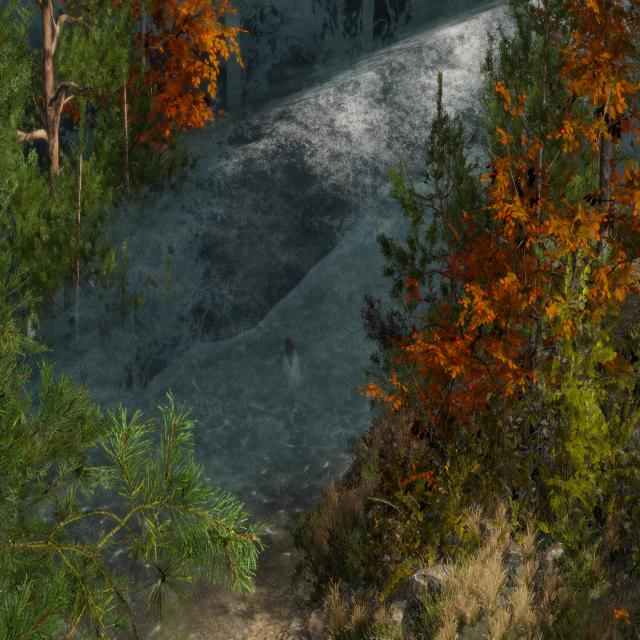Human: (275, 332, 308, 407)
